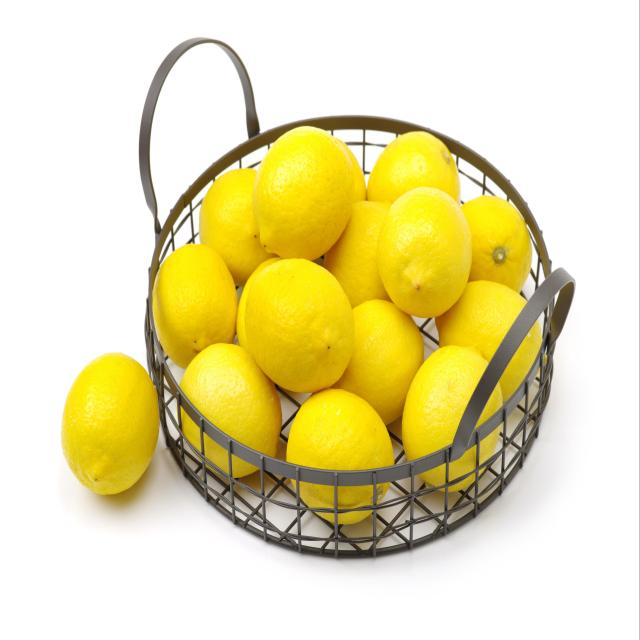lemon: (243, 255, 357, 396), (58, 348, 162, 498), (374, 183, 474, 322)
